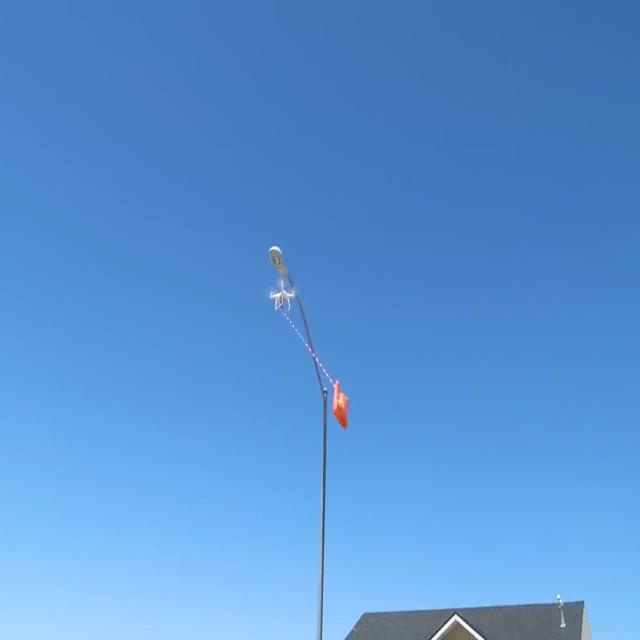drone: (267, 280, 297, 315)
